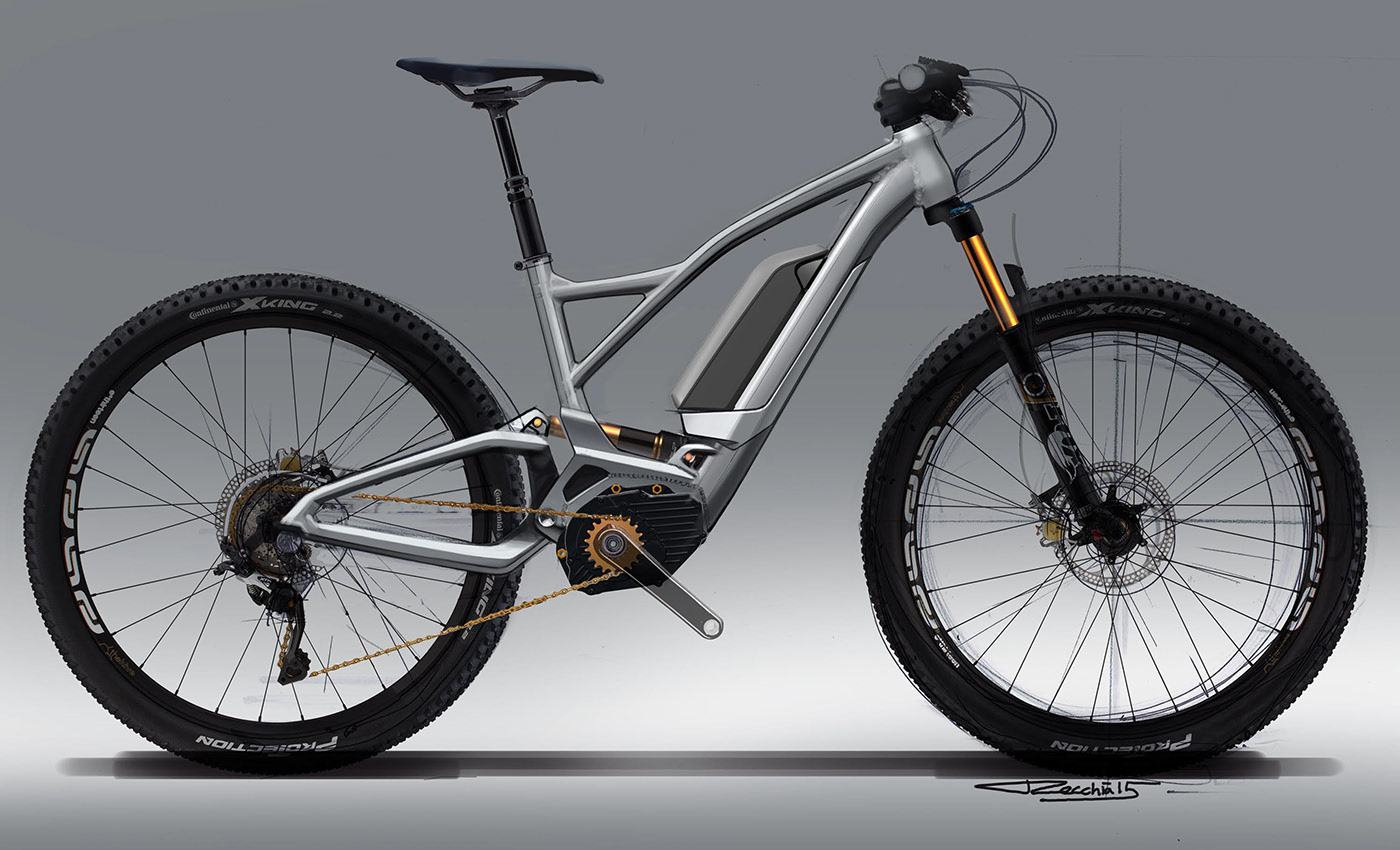MNV: (26, 57, 1367, 771)
